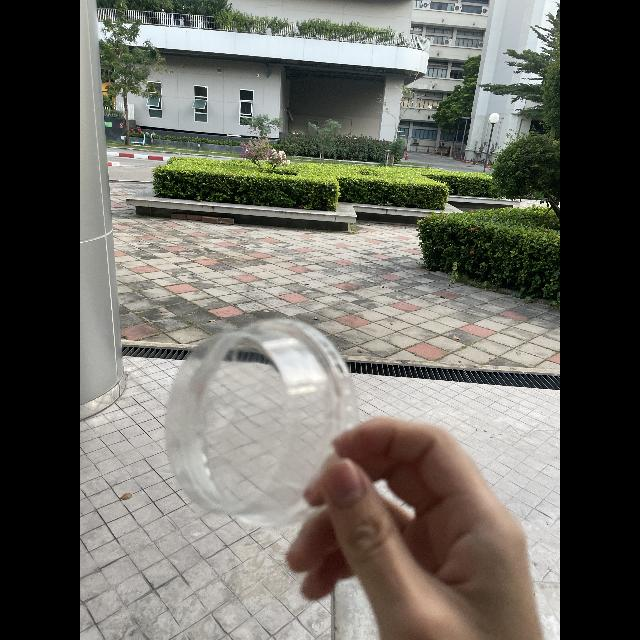plastic_cup_lid: (152, 300, 364, 528)
